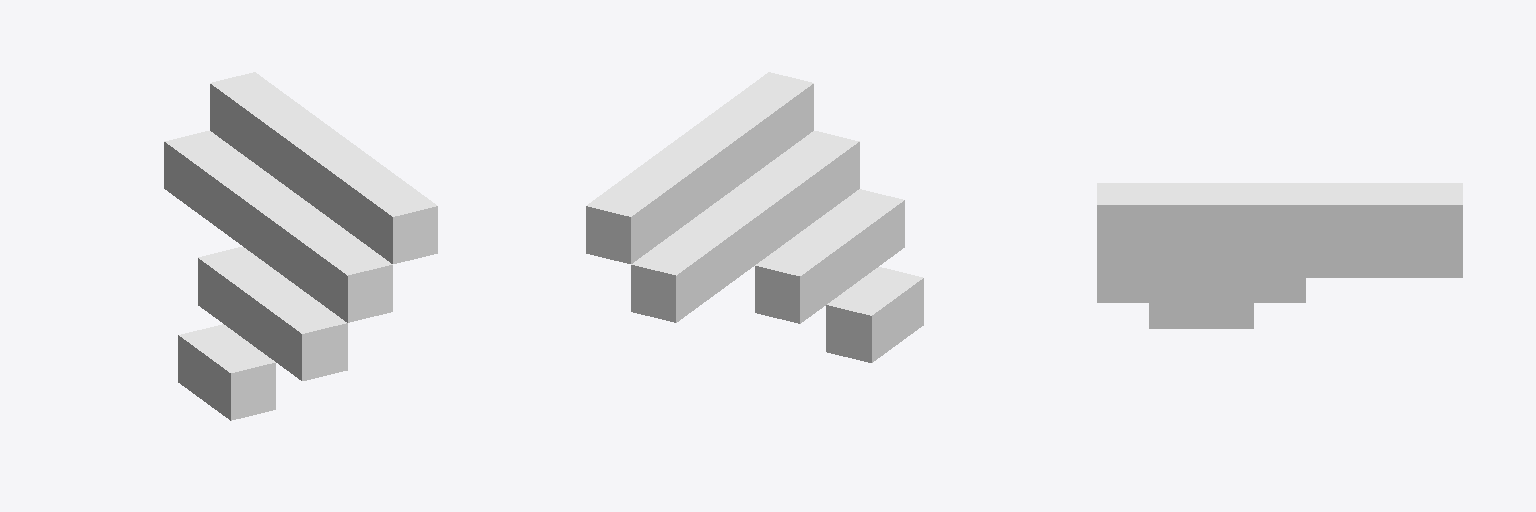
File: YellowHouseParts-101.obj
3 renders of one model, left to right at view 1: azimuth 30°, elevation 25°; view 2: azimuth 150°, elevation 25°; view 3: azimuth 270°, elevation 25°, orthographic.
Visible parts, largest first — view 1: object 1; view 2: object 1; view 3: object 1.
Boxes of the visible parts, x1=… form: object 1: x1=164, y1=72, x2=437, y2=420; object 1: x1=586, y1=72, x2=923, y2=362; object 1: x1=1097, y1=183, x2=1462, y2=328.
Size of the model in its own units: 0.4 by 0.4 by 0.7.